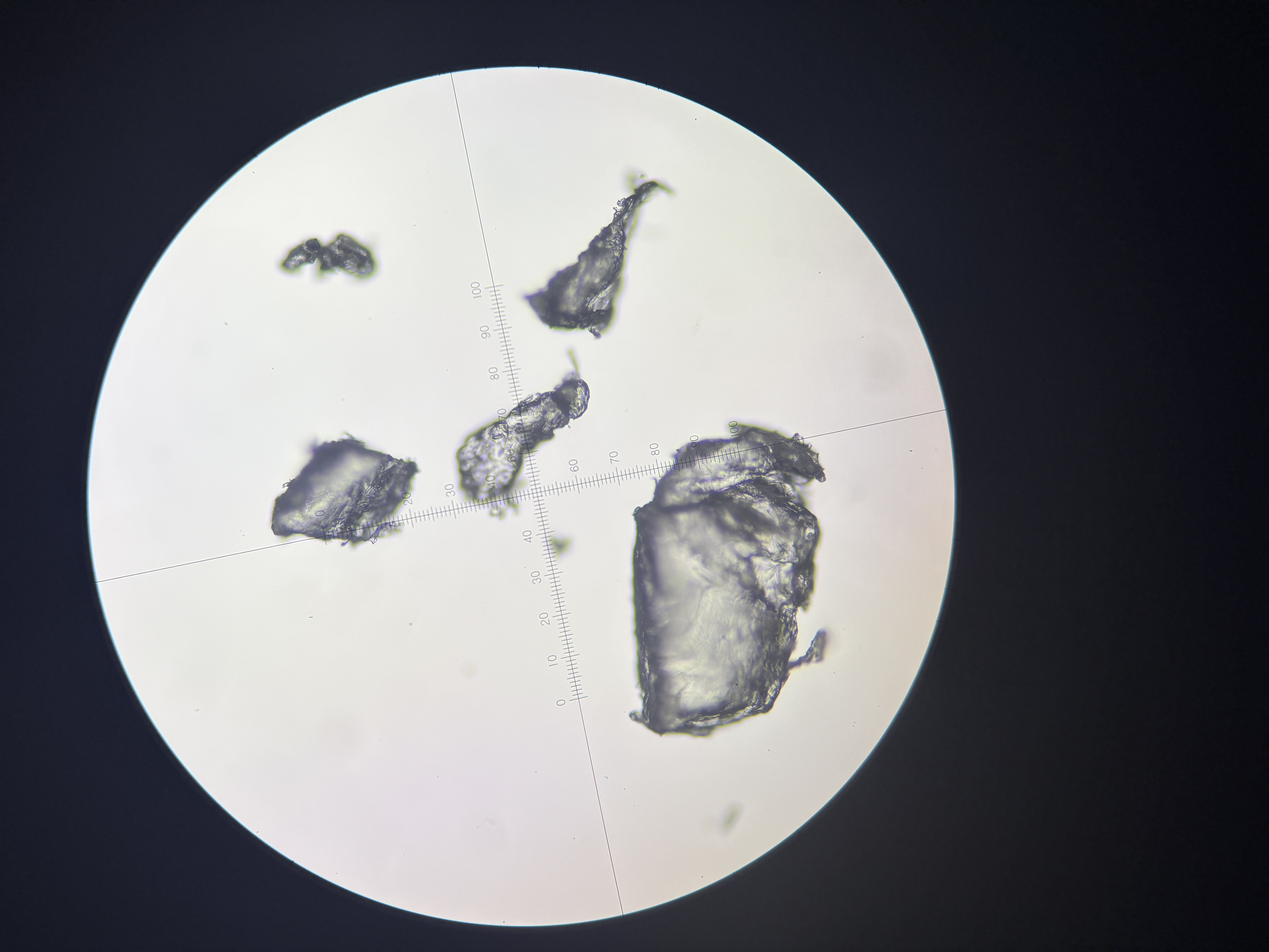microplastic: (626, 422, 829, 740), (523, 180, 672, 339), (455, 347, 591, 505), (270, 431, 422, 550), (279, 233, 376, 275), (547, 535, 573, 560), (722, 804, 741, 827), (504, 497, 520, 516), (489, 504, 507, 520), (639, 174, 645, 179)
